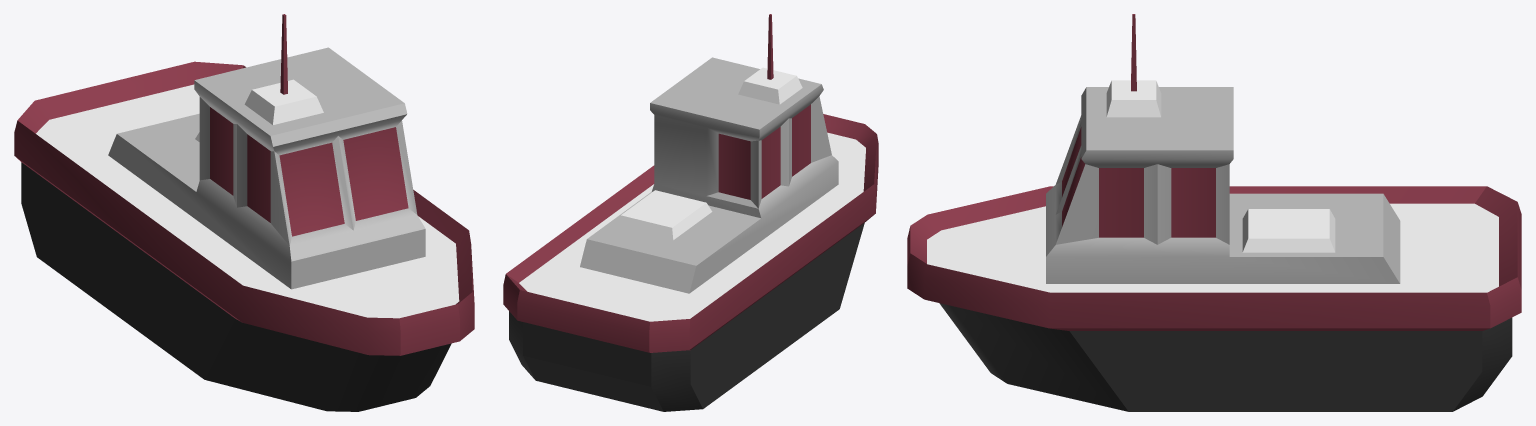
The model's file is boet.gltf.
The picture shows the model from 3 angles, left to right: view 1: azimuth 30°, elevation 25°; view 2: azimuth 150°, elevation 25°; view 3: azimuth 270°, elevation 25°; orthographic projection. The views are drawn at different scales.
Parts seen in each view (by area): view 1: Cube; view 2: Cube; view 3: Cube.
Boxes of the visible parts, left/top/right/bottom form: Cube: left=14, top=14, right=474, bottom=411; Cube: left=503, top=14, right=878, bottom=411; Cube: left=907, top=14, right=1521, bottom=411.
Size of the model in its own units: 0.858 by 1.23 by 2.07.
1 material, 1 textured.
